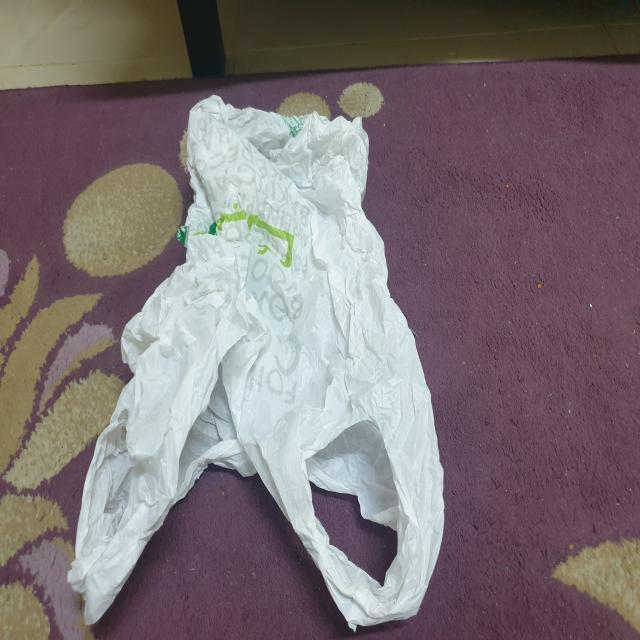Plastic_Bag: (57, 86, 453, 640)
